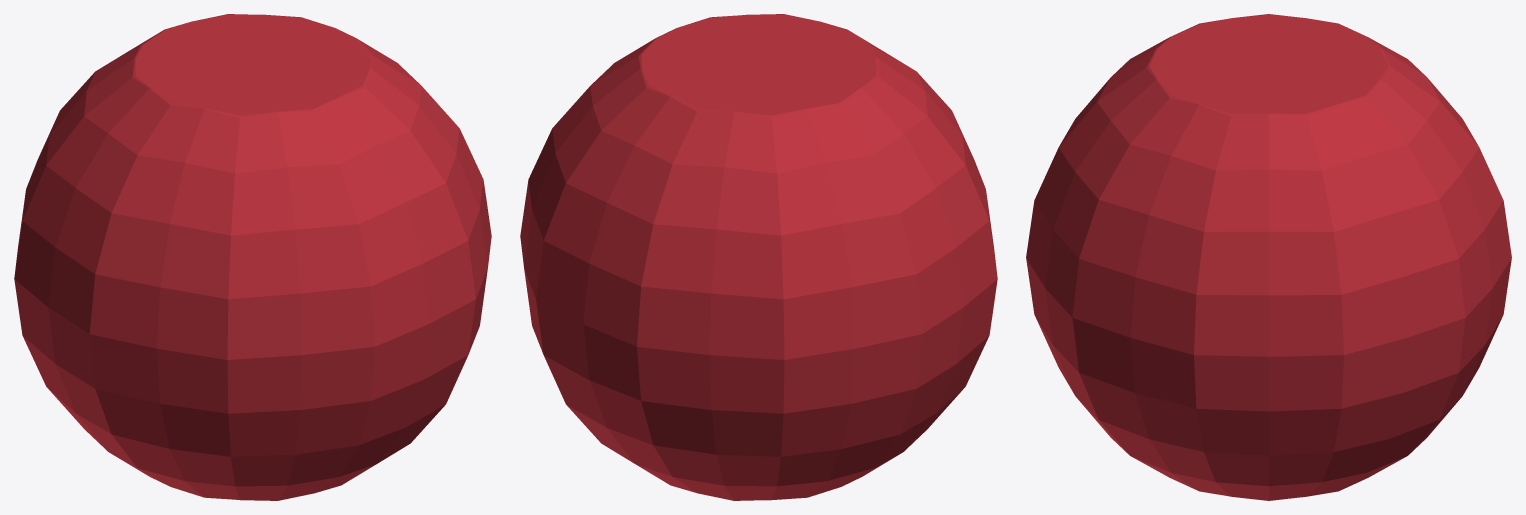
The model's file is TaiwanLantern_ShapeKeys_Fixed.fbx.
3 views of the same model, side by side, from view 1: azimuth 30°, elevation 25°; view 2: azimuth 150°, elevation 25°; view 3: azimuth 270°, elevation 25° (orthographic).
Parts seen in each view (by area): view 1: Cylinder.002; view 2: Cylinder.002; view 3: Cylinder.002.
Part boxes in pixels (x1,y1,x2,y2): Cylinder.002: (14, 14, 491, 500); Cylinder.002: (520, 14, 997, 500); Cylinder.002: (1026, 14, 1511, 500).
Bounding box in the file's own units: 194 × 176 × 200.
